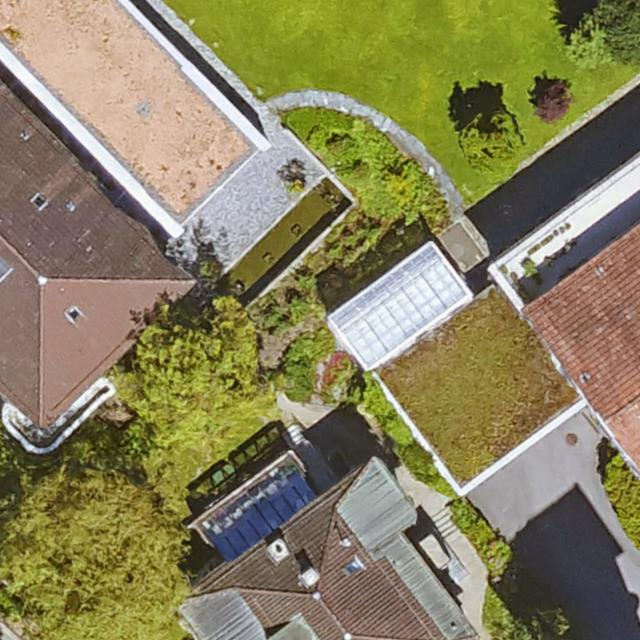tree: (0, 430, 166, 640), (136, 305, 261, 502), (570, 0, 640, 67), (461, 119, 518, 169), (532, 89, 572, 114)
